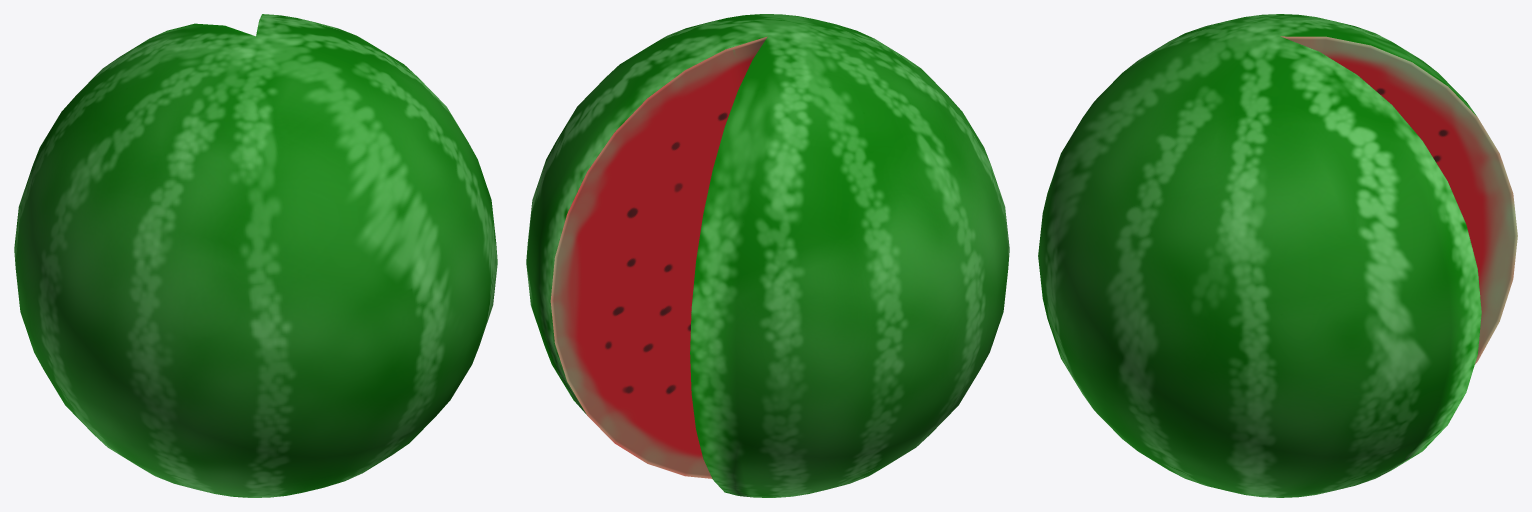
Rendered from WatermelonWhole.fbx.
3 views of the same model, side by side, from view 1: azimuth 30°, elevation 25°; view 2: azimuth 150°, elevation 25°; view 3: azimuth 270°, elevation 25° (orthographic).
Parts seen in each view (by area): view 1: Watermelon; view 2: Watermelon; view 3: Watermelon.
Part boxes in pixels (x1,y1,x2,y2): Watermelon: [14, 14, 497, 497]; Watermelon: [526, 14, 1009, 497]; Watermelon: [1038, 14, 1517, 497].
Size of what is drawn, in the model's own units: 29.66 by 29.66 by 29.37.
